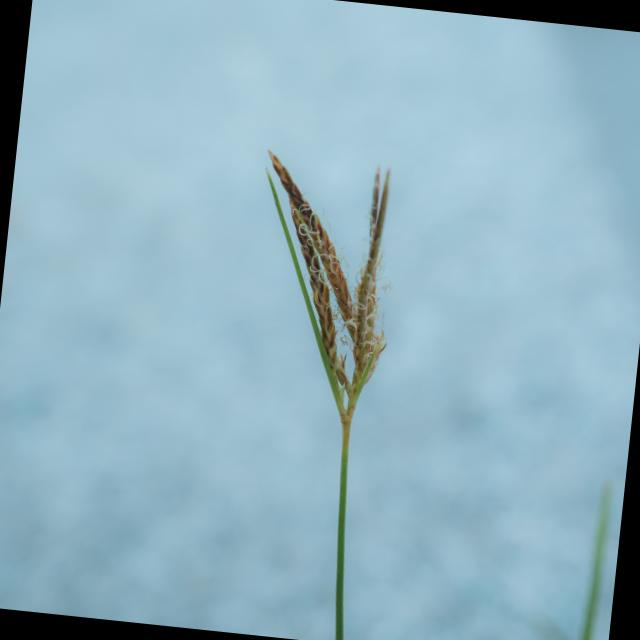cyperus: (227, 140, 438, 418)
